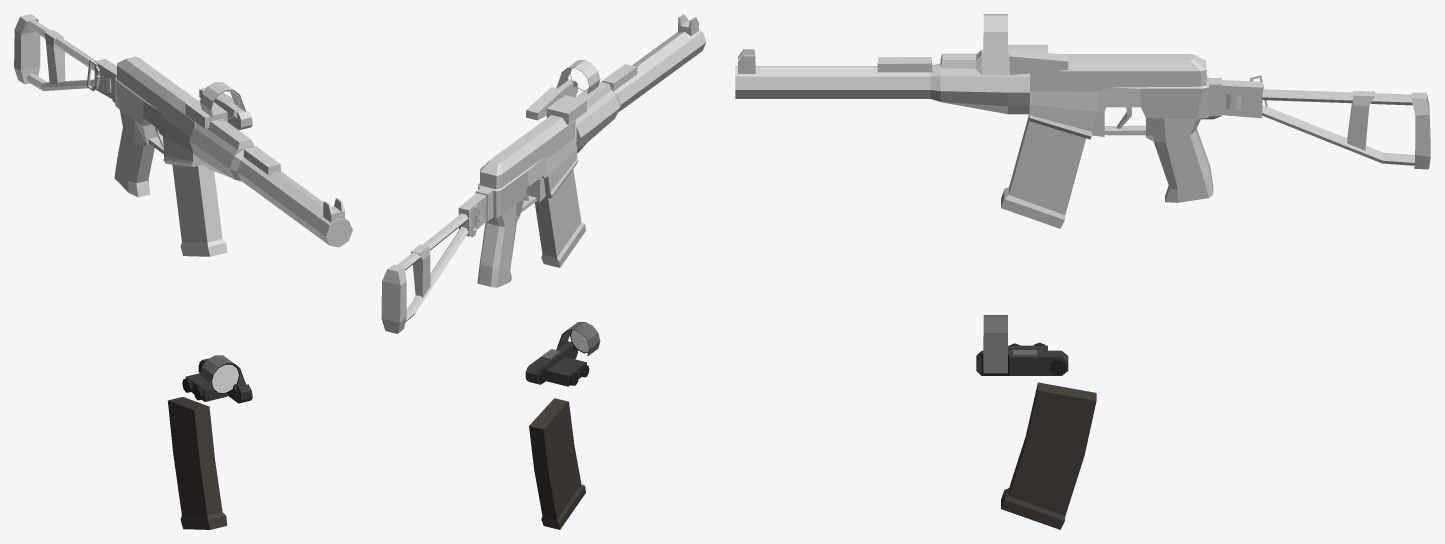
The model's file is AsVal_Gun.glb.
3 renders of one model, left to right at view 1: azimuth 30°, elevation 25°; view 2: azimuth 150°, elevation 25°; view 3: azimuth 270°, elevation 25°, orthographic. The views are drawn at different scales.
Visible parts, largest first — view 1: AsValLowPoly, AsValMagazine, MonocleReflexSight, MonocleReflexGlass; view 2: AsValLowPoly, AsValMagazine, MonocleReflexSight; view 3: AsValLowPoly, AsValMagazine, MonocleReflexSight.
Part boxes in pixels (x1,y1,x2,y2): AsValLowPoly: [14, 14, 352, 256]; AsValMagazine: [167, 397, 227, 529]; MonocleReflexSight: [182, 355, 252, 403]; MonocleReflexGlass: [212, 364, 238, 392]; AsValLowPoly: [381, 14, 706, 333]; AsValMagazine: [529, 398, 585, 529]; MonocleReflexSight: [525, 322, 600, 386]; AsValLowPoly: [735, 14, 1430, 228]; AsValMagazine: [1001, 382, 1096, 529]; MonocleReflexSight: [976, 315, 1068, 375].
Bounding box in the file's own units: 0.0713 × 0.7624 × 0.943.
4 materials, 1 textured.
